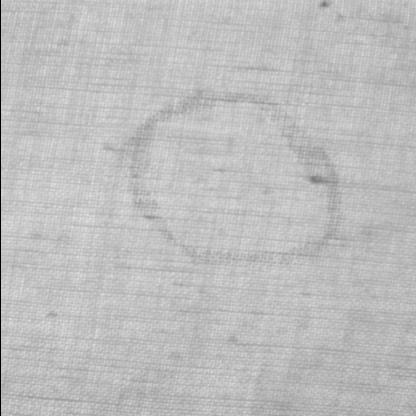oil spot: (95, 86, 343, 268)
